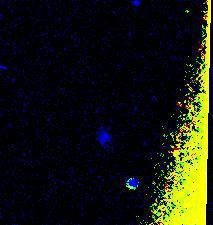star: (174, 0, 204, 27)
